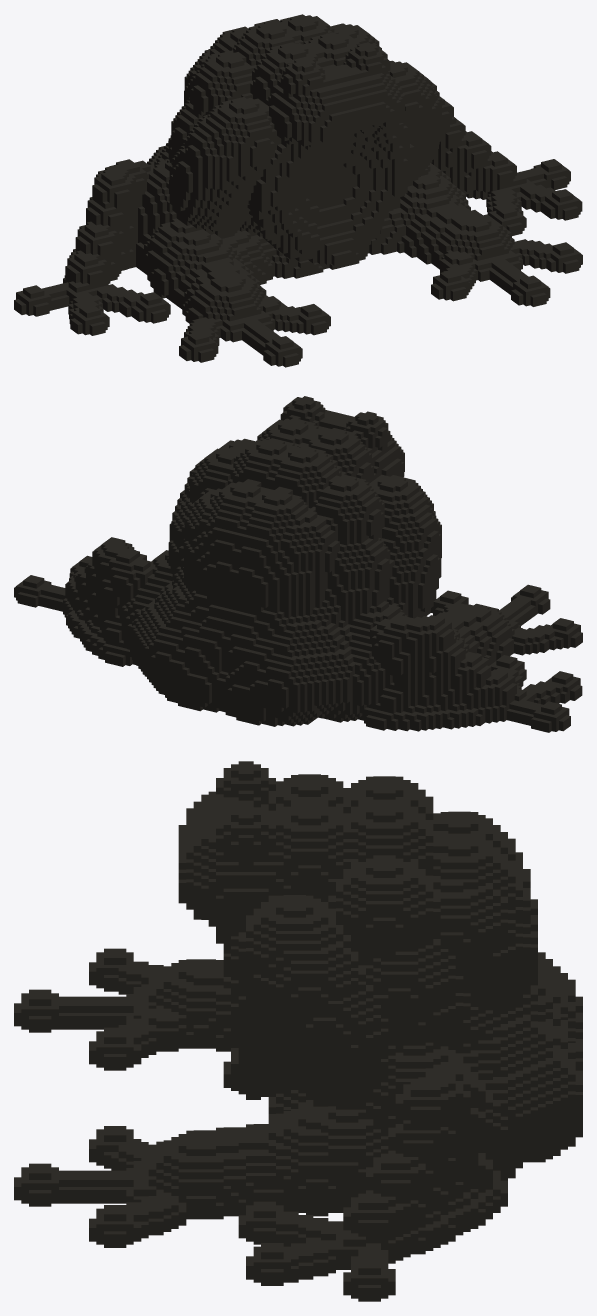
The model's file is FrogStatue-1.obj.
3 views of the same model, one above another, from view 1: azimuth 30°, elevation 25°; view 2: azimuth 150°, elevation 25°; view 3: azimuth 270°, elevation 25° (orthographic). The views are drawn at different scales.
Parts seen in each view (by area): view 1: FrogStatue-1; view 2: FrogStatue-1; view 3: FrogStatue-1.
Boxes of the visible parts, x1,y1,x2,y2 form: FrogStatue-1: [14, 14, 582, 367]; FrogStatue-1: [14, 396, 582, 732]; FrogStatue-1: [14, 761, 582, 1301].
Size of the model in its own units: 122 by 47 by 76.
1 material, 1 textured.
